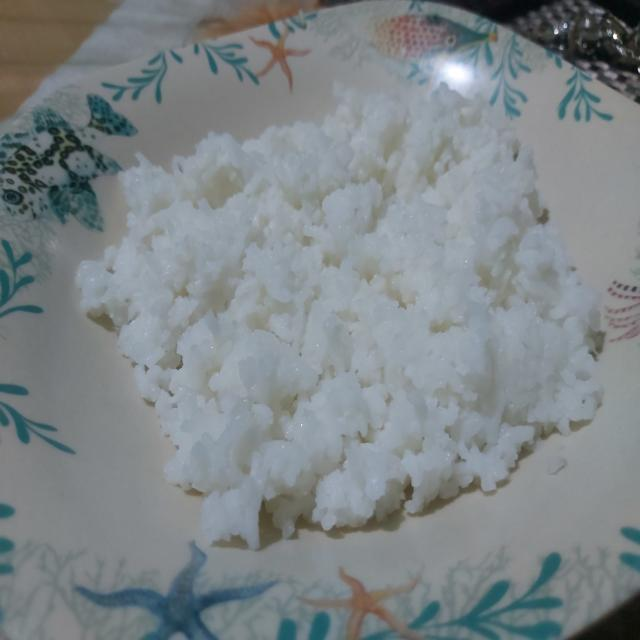Chicken -Chicken Inasal-: (107, 84, 598, 541)
